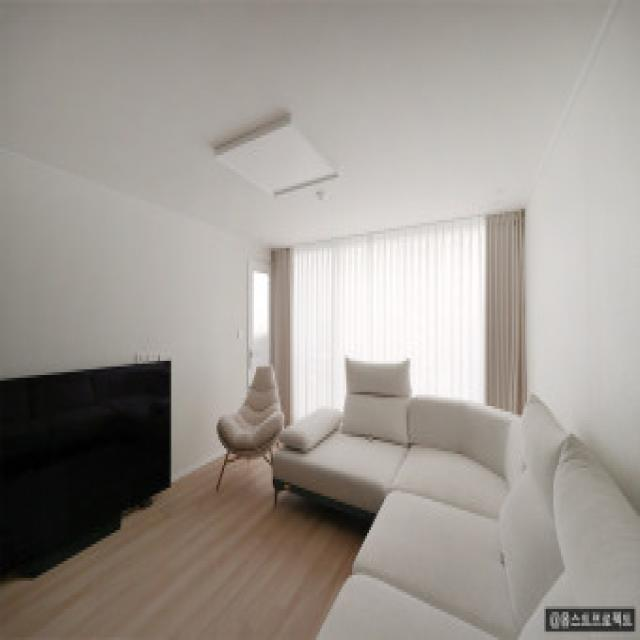Chair: (212, 355, 284, 501)
Sofa: (290, 358, 640, 640)
tv: (2, 359, 176, 538)
window: (272, 248, 502, 399)
